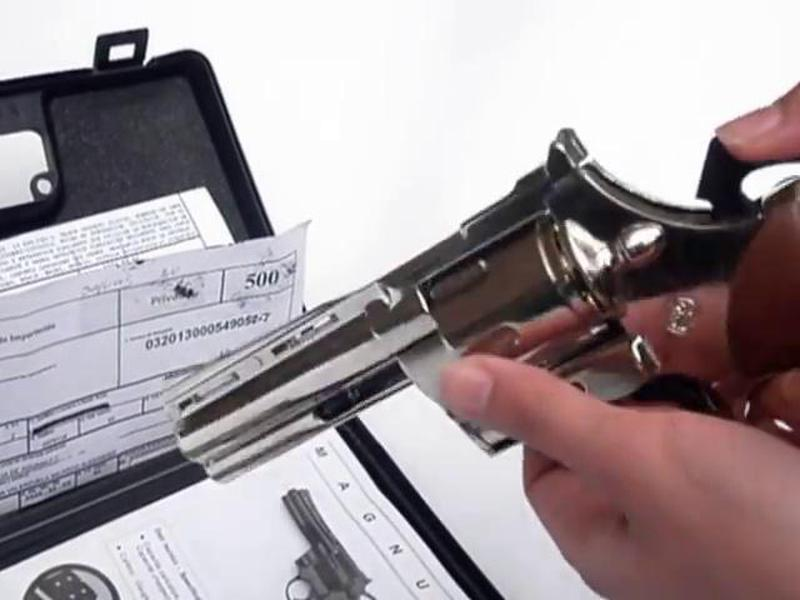Revolver: (158, 89, 800, 511)
